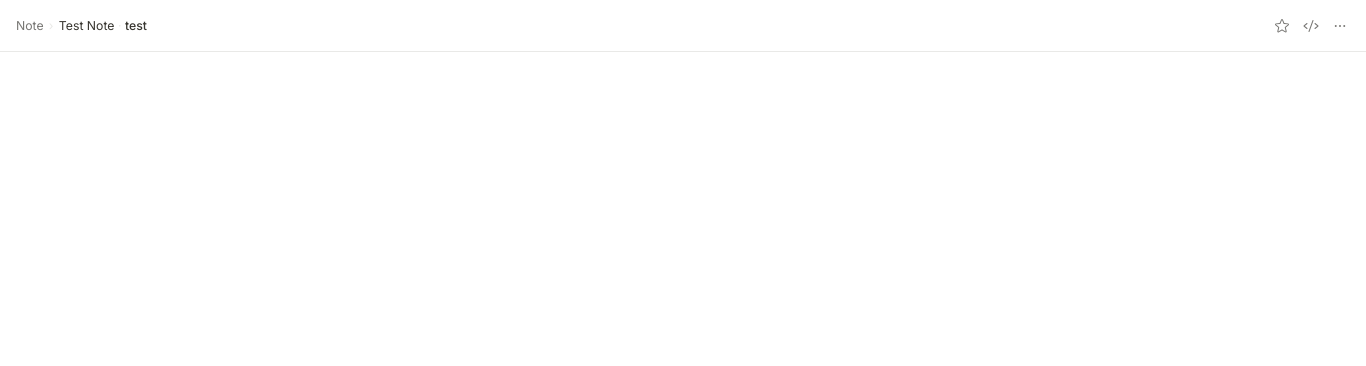
Scenario: BreadcrumbBar — action buttons always right-aligned › keeps git diff first while placing archive and delete at the bottom
The width and height of the screenshot is (1366, 366).
Press the mouse on the button named "More note actions" at (1340, 26), box [1329,15,1350,36]
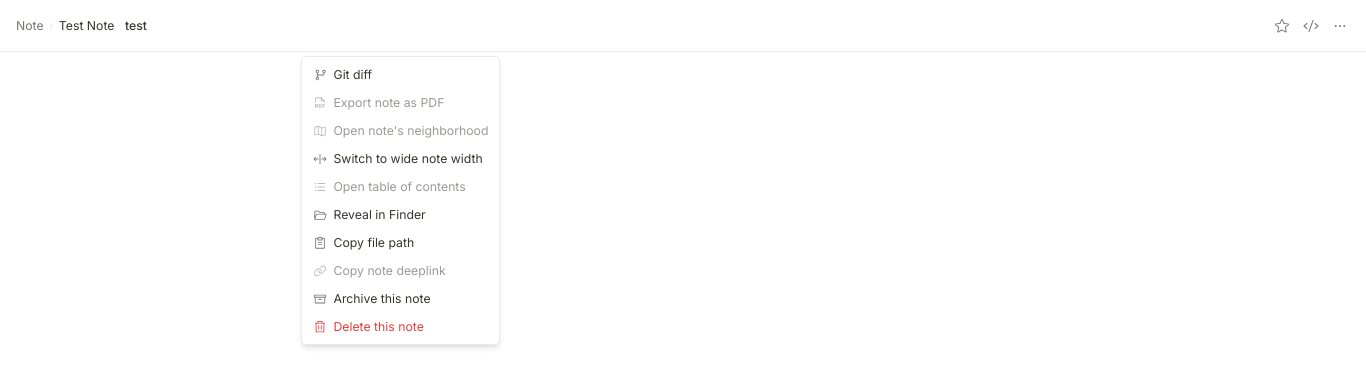
Result: the menu item "Git diff" is shown at [312,67,372,82]
